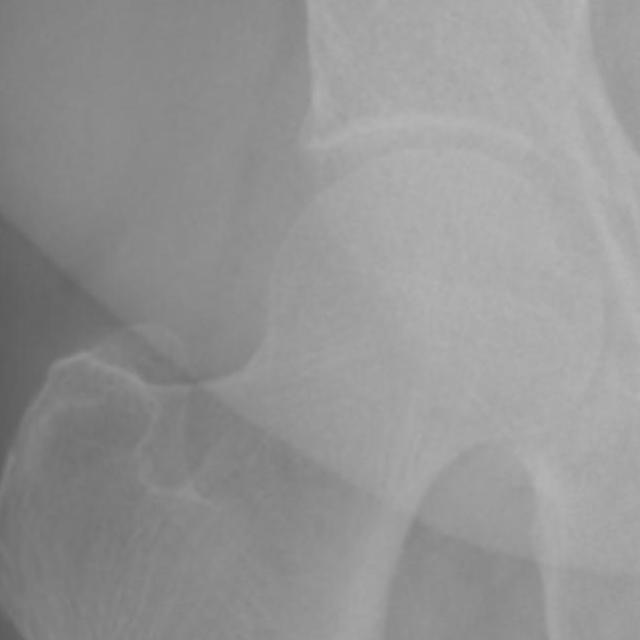Fitted_femural_head: (331, 149, 432, 331)
